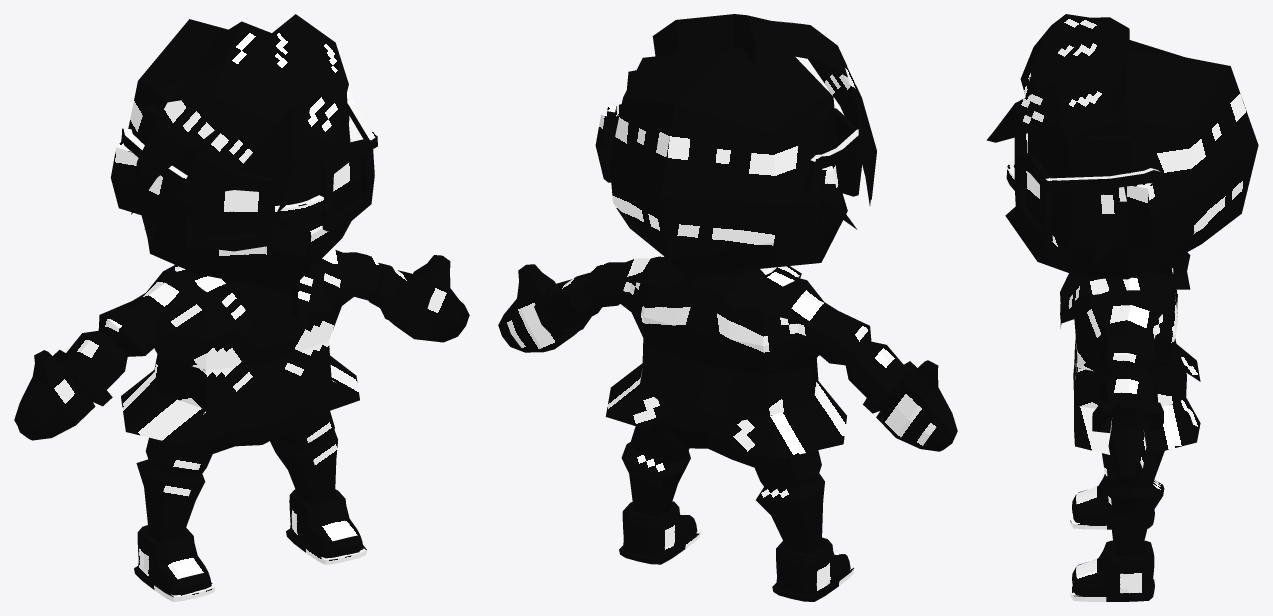
Rendered from Charlie.glb.
The picture shows the model from 3 angles, left to right: view 1: azimuth 30°, elevation 25°; view 2: azimuth 150°, elevation 25°; view 3: azimuth 270°, elevation 25°; orthographic projection. The views are drawn at different scales.
Parts seen in each view (by area): view 1: Plane.002; view 2: Plane.002; view 3: Plane.002.
Part boxes in pixels (box(x1,y1,x2,y2)): Plane.002: box(14, 14, 469, 601); Plane.002: box(498, 14, 957, 601); Plane.002: box(987, 14, 1258, 601).
Size of the model in its own units: 7.33 by 8.48 by 3.92.
Materials: 1 (1 with a texture image).
